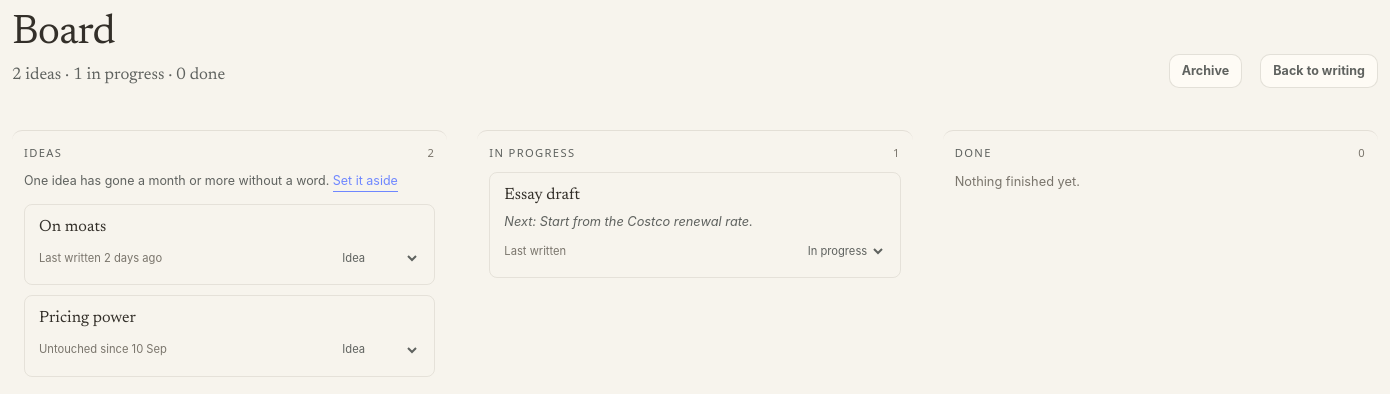
Test: Done offers to settle the note into Wiki, and only settles when asked
Select "Done" in the dropdown named "Move “On moats”" at (378, 258), box 336,244 -> 420,272
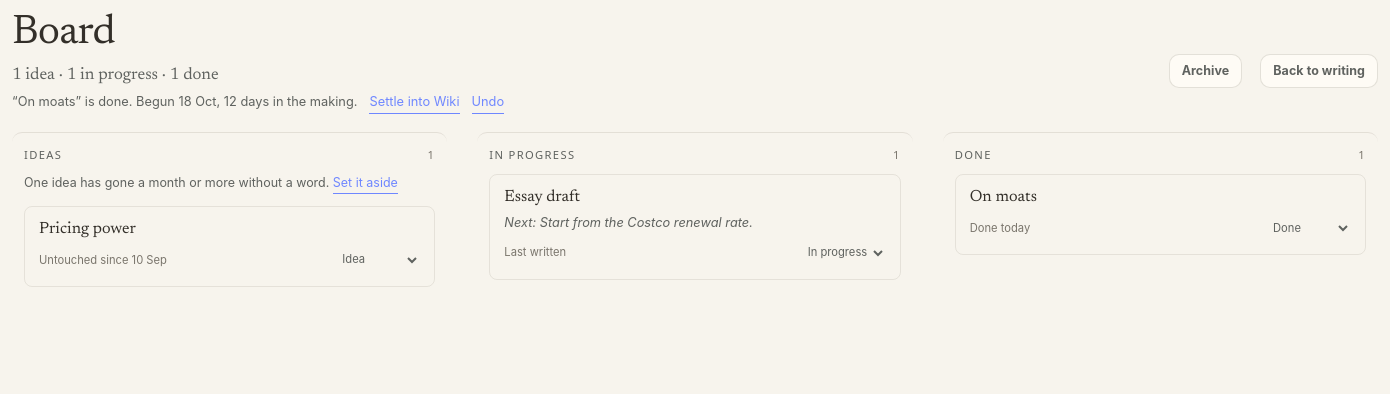
Click the button "Settle into Wiki" at (414, 103), box 370,92 -> 460,114
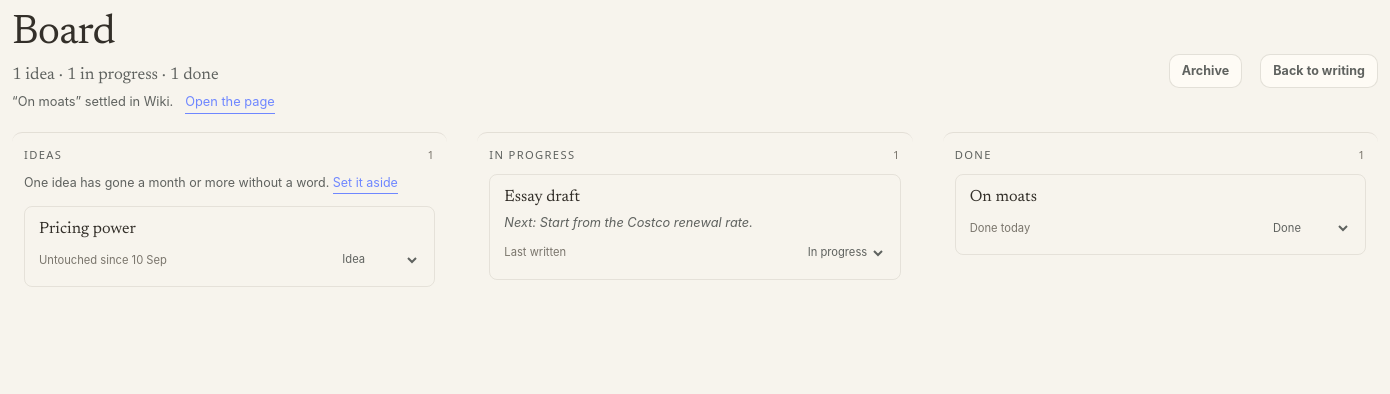
Check: the message shows "“On moats” settled in Wiki.", box 12,94 -> 173,109
